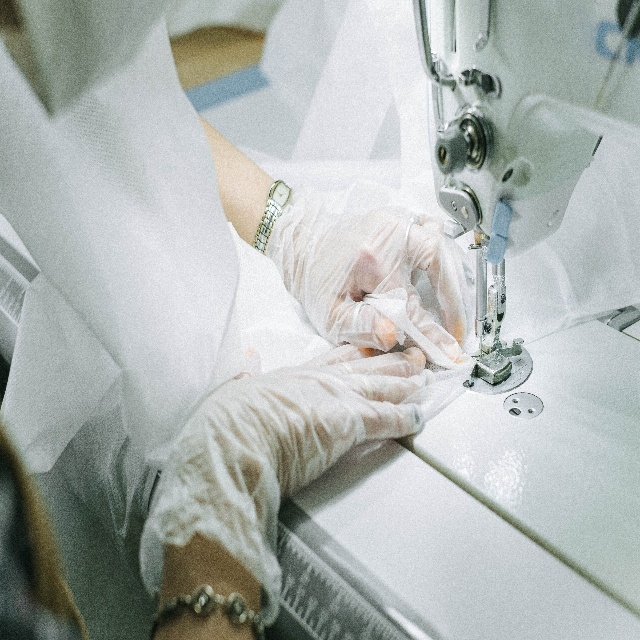Guantes: (158, 340, 429, 574), (300, 196, 479, 368)
